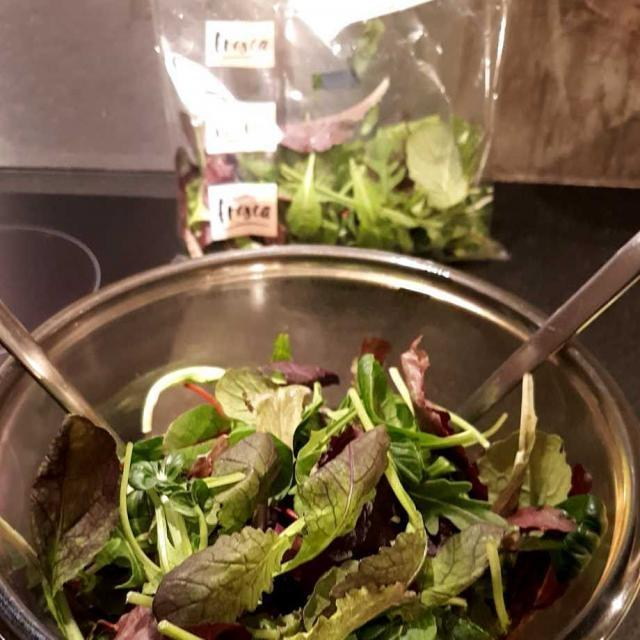salad: (28, 351, 600, 629)
